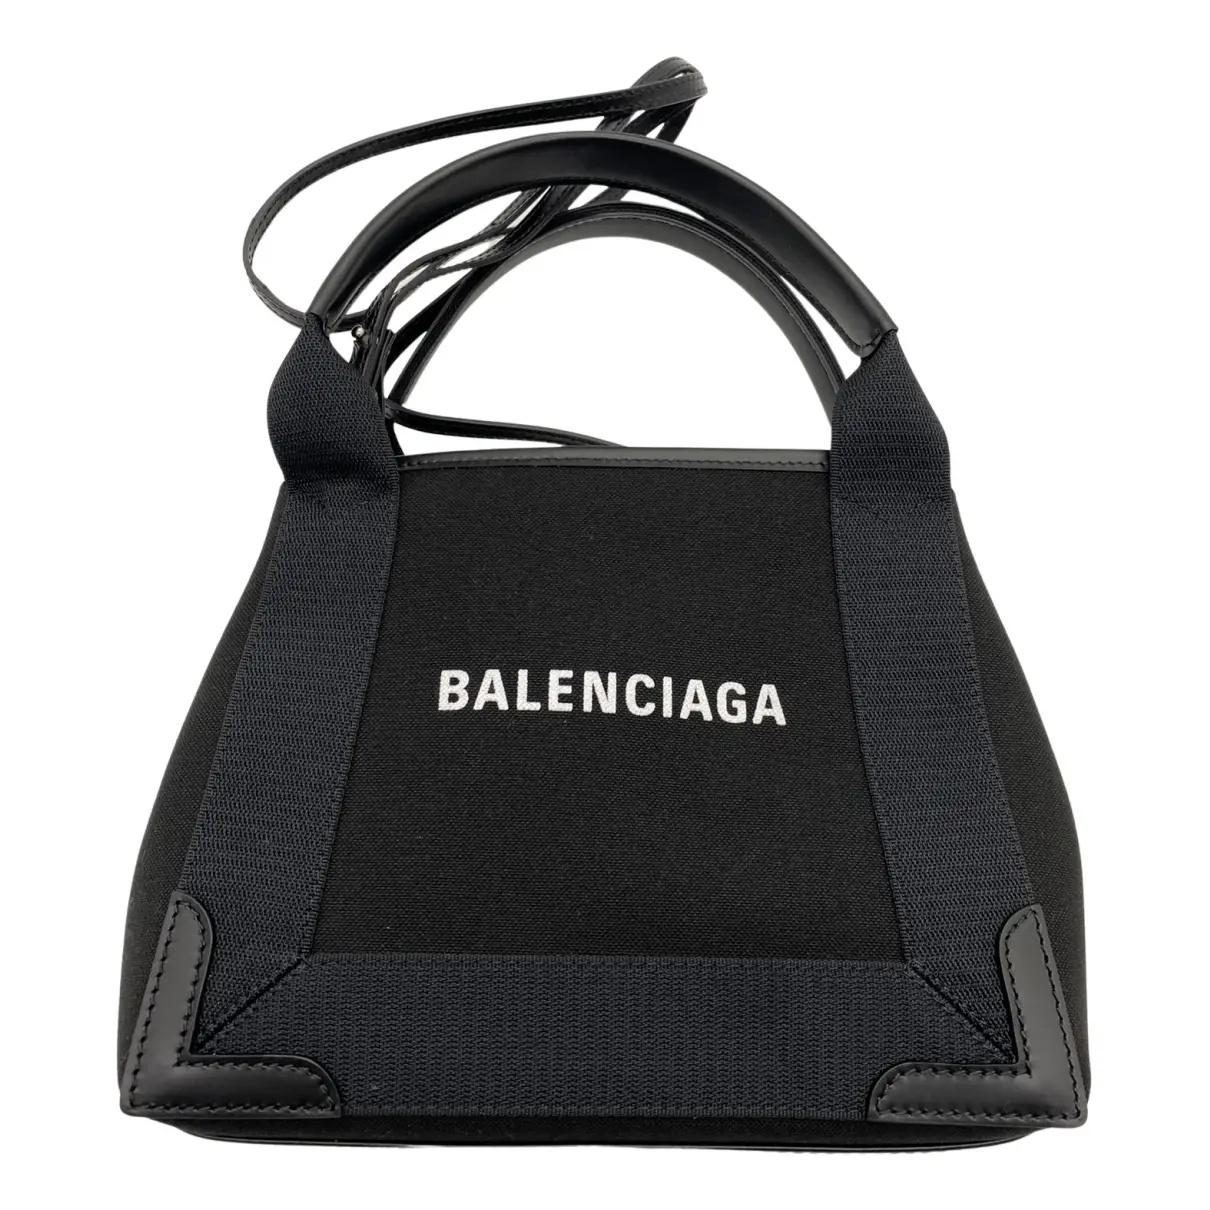BALENCIAGA: (438, 669, 787, 727)
